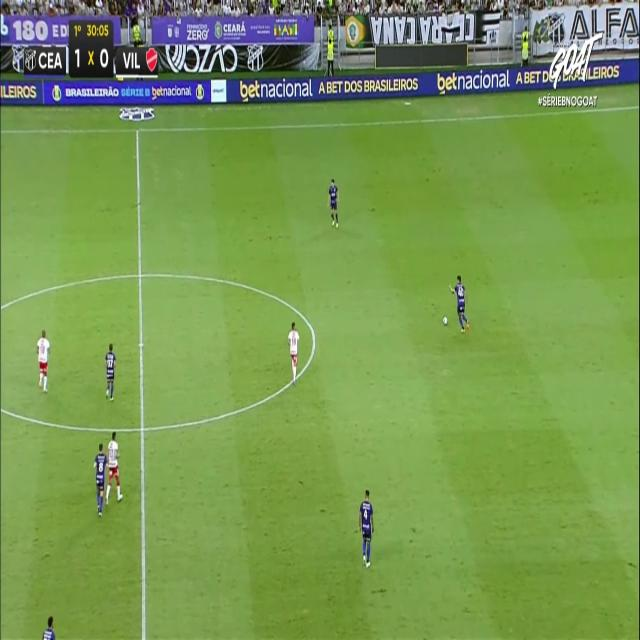ball: (442, 317, 451, 329)
player: (105, 430, 123, 505), (358, 488, 374, 567), (448, 274, 469, 332), (93, 442, 109, 516), (36, 329, 50, 393), (287, 321, 299, 386), (104, 342, 116, 401), (327, 178, 339, 228), (41, 615, 61, 640)
